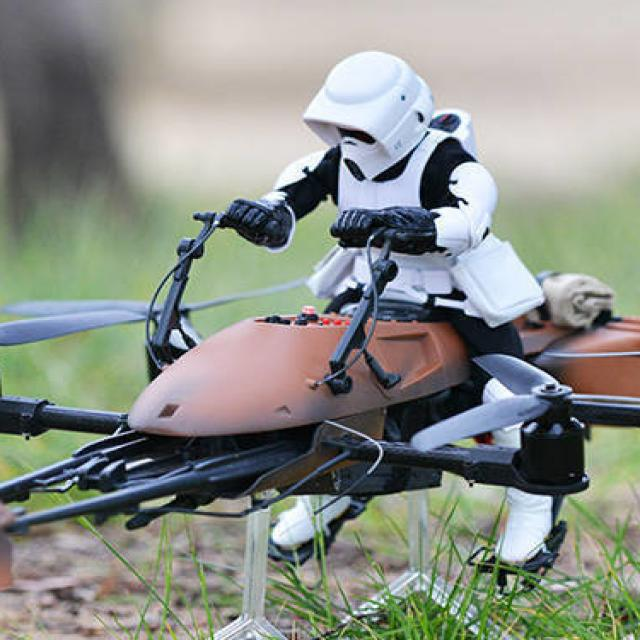drone: (0, 223, 640, 547)
